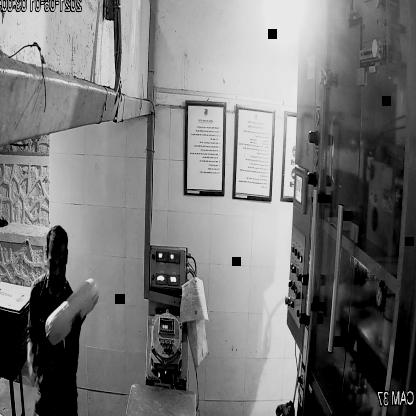no_goggles: (44, 248, 71, 274)
